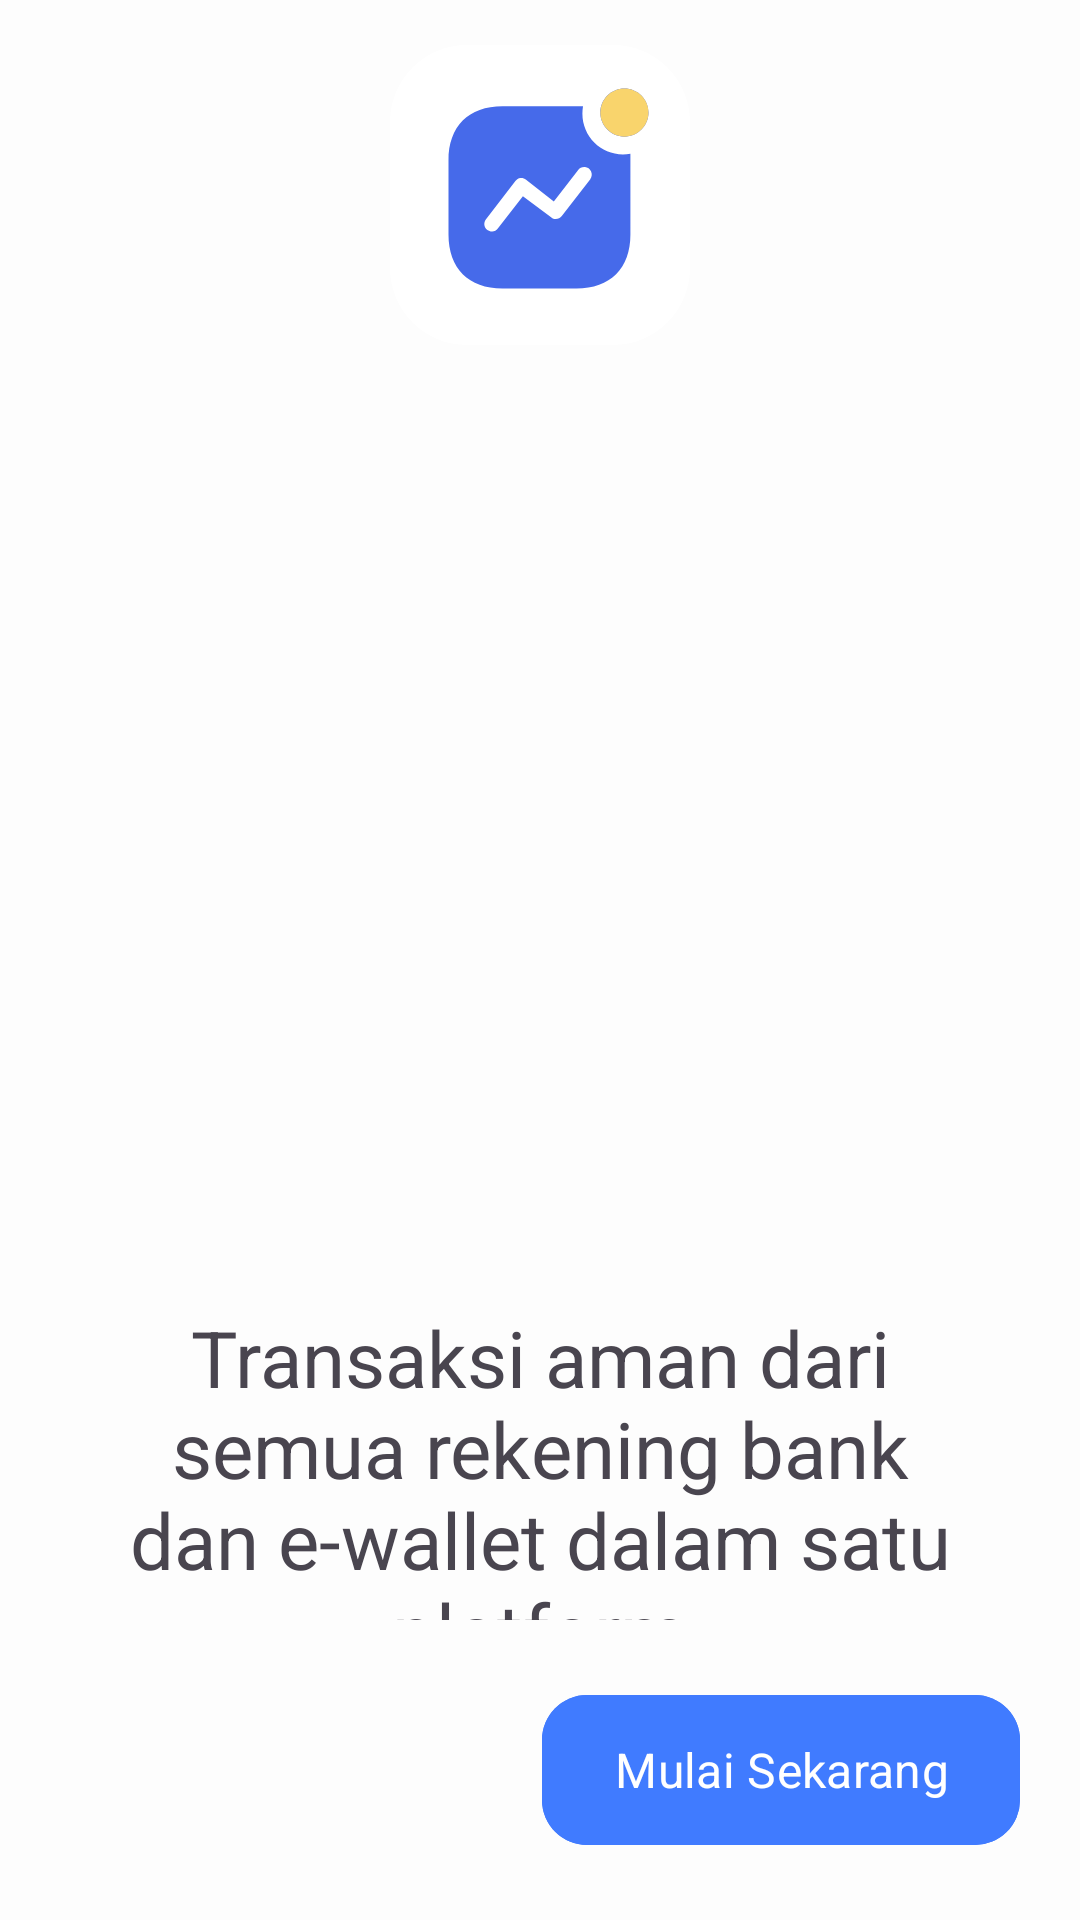

Icon bounding boxes for this 1080px×1920px phone screenshot, format (x1,y1,x2,y2):
app: (448,88,649,289)
